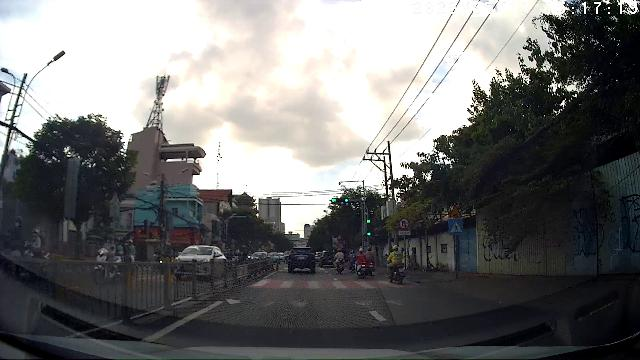124b-cam-oto-quay-dau-xe: (398, 218, 410, 229)
423a-duong-nguoi-di-bo-sang-ngang-1: (449, 219, 463, 234)
